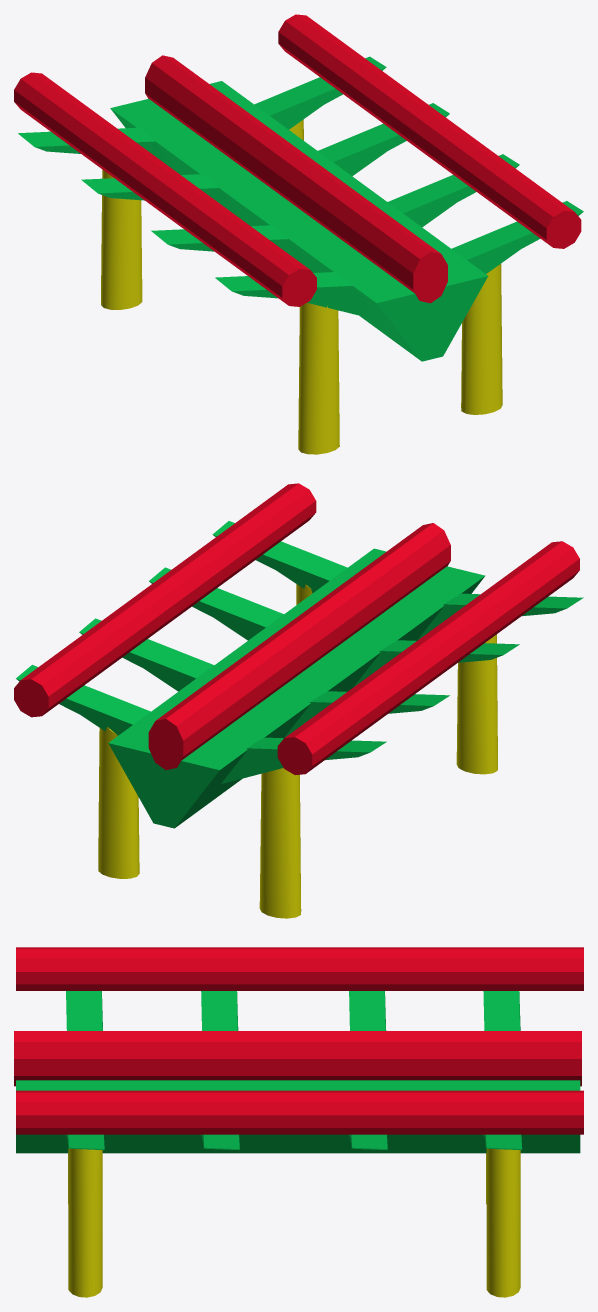
The model's file is Rail_Strait_01.fbx.
3 views of the same model, one above another, from view 1: azimuth 30°, elevation 25°; view 2: azimuth 150°, elevation 25°; view 3: azimuth 270°, elevation 25° (orthographic). The views are drawn at different scales.
Visible parts, largest first — view 1: RailStrait; view 2: RailStrait; view 3: RailStrait.
Part boxes in pixels (x1,y1,x2,y2): RailStrait: (14, 14, 583, 454); RailStrait: (14, 483, 583, 918); RailStrait: (14, 947, 583, 1297).
Bounding box in the file's own units: 2.2 × 1.27 × 2.89.
